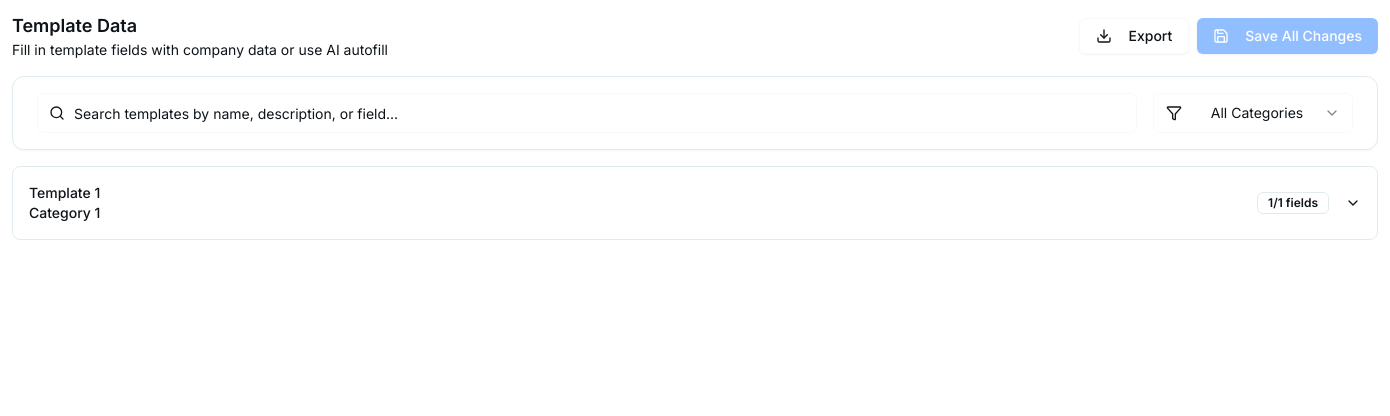
Test: FrameworkSpreadsheet Component › opens accordion to show fields
Expected: the text "Template 1" is shown, x1=29 y1=183 x2=100 y2=203
Click the button with test id "accordion-template-temp-1" at (65, 192), box x1=29 y1=167 x2=1361 y2=239
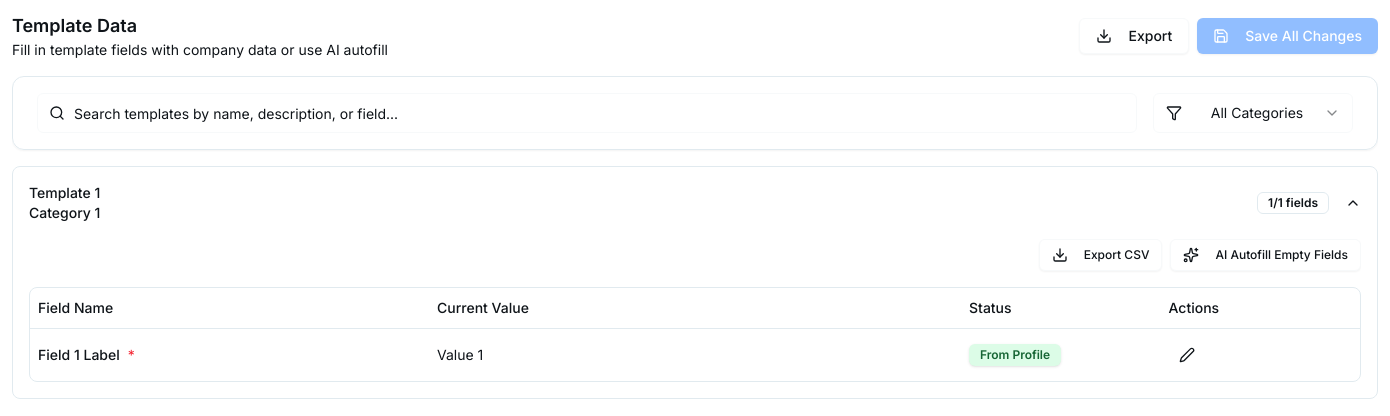
Now the text "Field 1 Label" is shown, box x1=38 y1=344 x2=120 y2=364
Now the text with test id "text-value-field-1" reads "Value 1", box x1=437 y1=346 x2=483 y2=362
